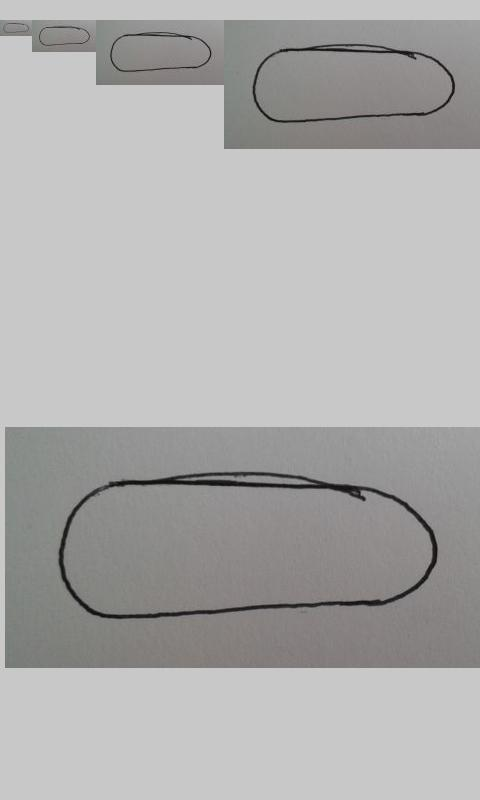chip: (57, 471, 439, 620), (252, 43, 456, 123), (110, 32, 212, 73), (38, 26, 91, 47), (2, 22, 30, 34)
